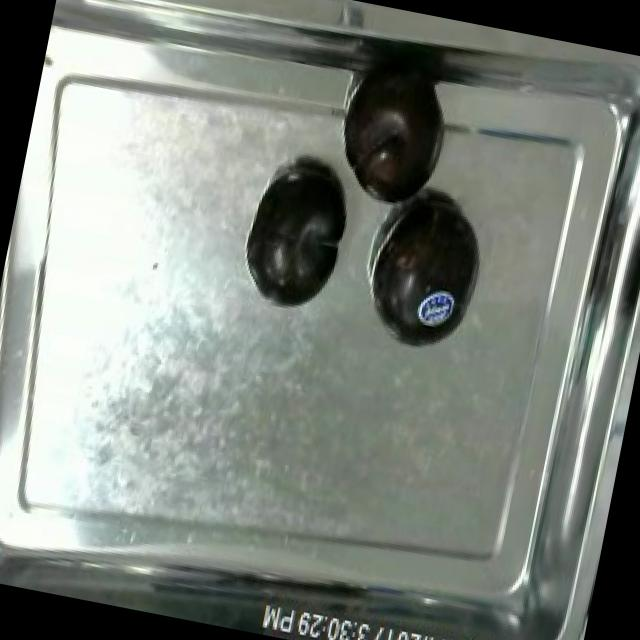Fruit: (236, 150, 366, 321), (328, 64, 458, 218)
